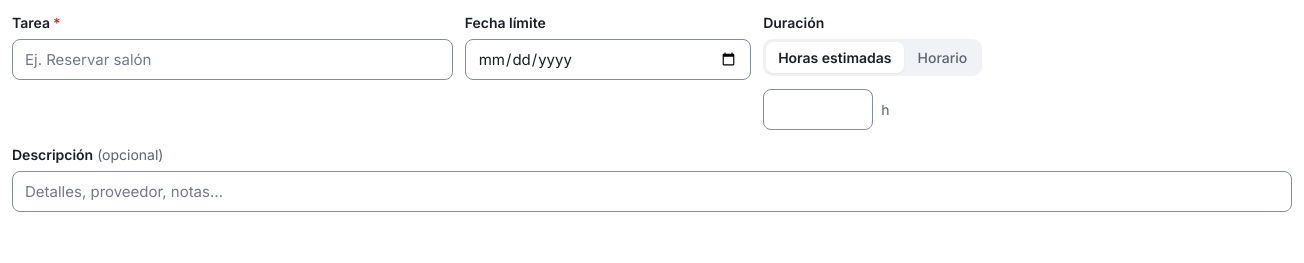
Scenario: hora de fin automática › respeta la hora de fin escrita por la persona mientras siga siendo válida
Click the radio button labelled "Horario": coordinates (942, 58) [906,42,979,73]
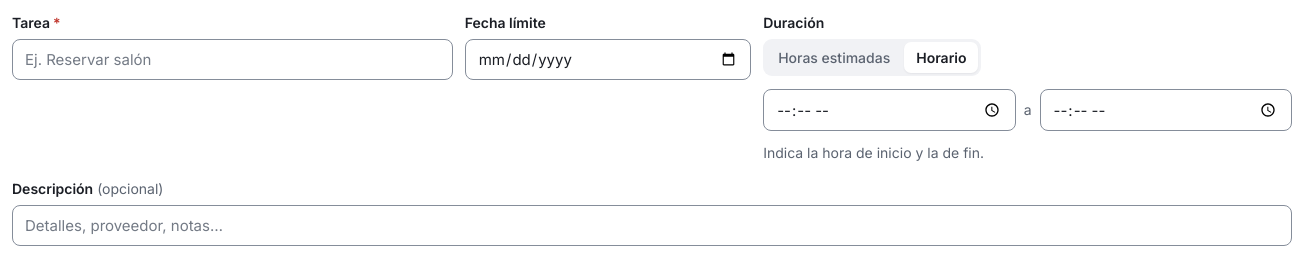
In the time field named "Hora de inicio": coordinates (889, 110) [763,89,1016,131], type "09:00"
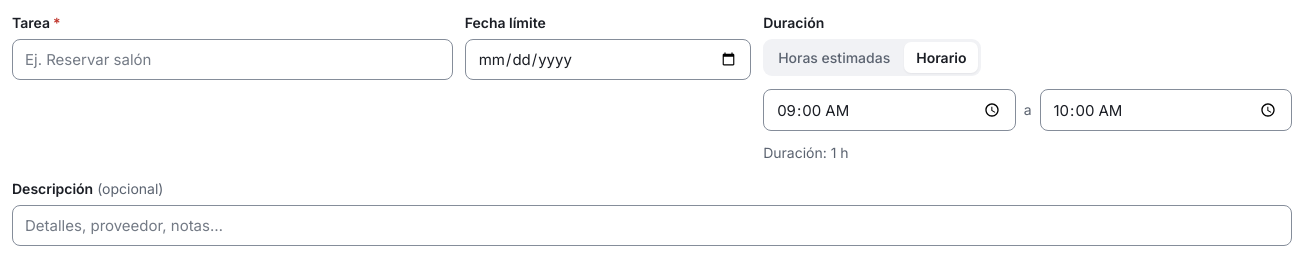
Replace the text in the time field named "Hora de fin" with "12:00": coordinates (1166, 110) [1040,89,1292,131]
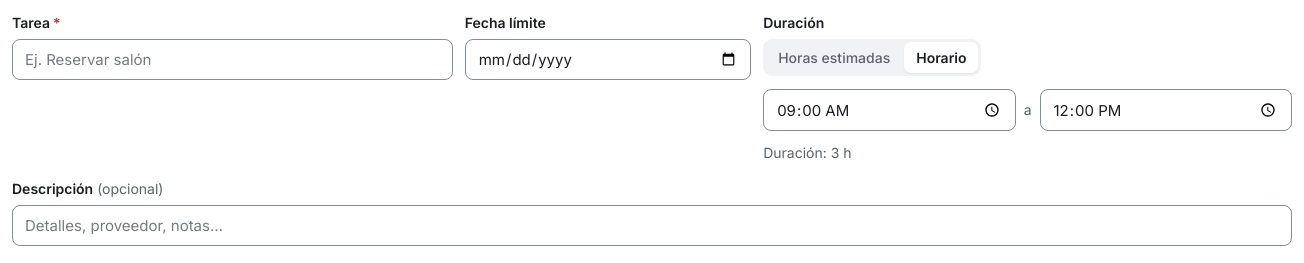
Replace the text in the time field named "Hora de inicio" with "10:00": coordinates (889, 110) [763,89,1016,131]
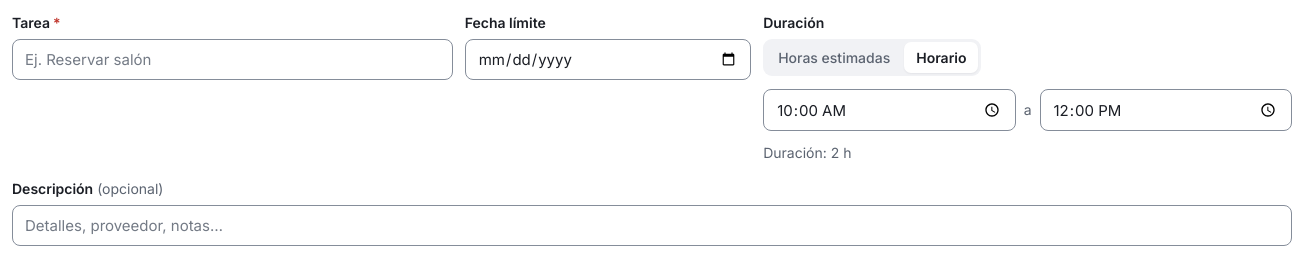
Result: the text "Duración: 2 h" is shown at [763,144,852,161]
